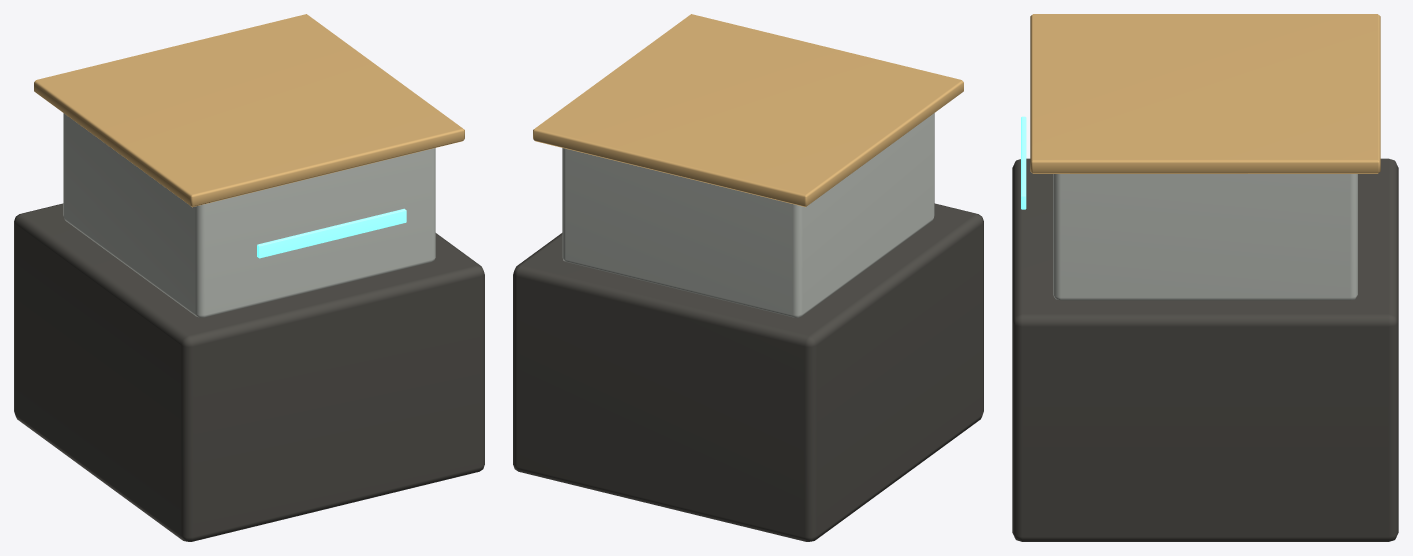
Rendered from hp_furniture_display_plinth_v1.glb.
The picture shows the model from 3 angles, left to right: view 1: azimuth 30°, elevation 25°; view 2: azimuth 150°, elevation 25°; view 3: azimuth 270°, elevation 25°; orthographic projection. The views are drawn at different scales.
Parts seen in each view (by area): view 1: tapered_lower_block, top_brass_plate, pale_stone_display_core, front_cyan_status_slit; view 2: tapered_lower_block, top_brass_plate, pale_stone_display_core; view 3: tapered_lower_block, top_brass_plate, pale_stone_display_core, front_cyan_status_slit.
Part boxes in pixels (x1,y1,x2,y2): tapered_lower_block: [14, 203, 484, 541]; top_brass_plate: [34, 14, 464, 207]; pale_stone_display_core: [63, 113, 435, 317]; front_cyan_status_slit: [257, 208, 406, 258]; tapered_lower_block: [513, 203, 983, 541]; top_brass_plate: [533, 14, 963, 207]; pale_stone_display_core: [562, 113, 934, 317]; tapered_lower_block: [1012, 158, 1398, 541]; top_brass_plate: [1030, 14, 1380, 173]; pale_stone_display_core: [1053, 174, 1357, 300]; front_cyan_status_slit: [1021, 116, 1026, 209].
Bounding box in the file's own units: 0.86 × 0.9275 × 0.86.
